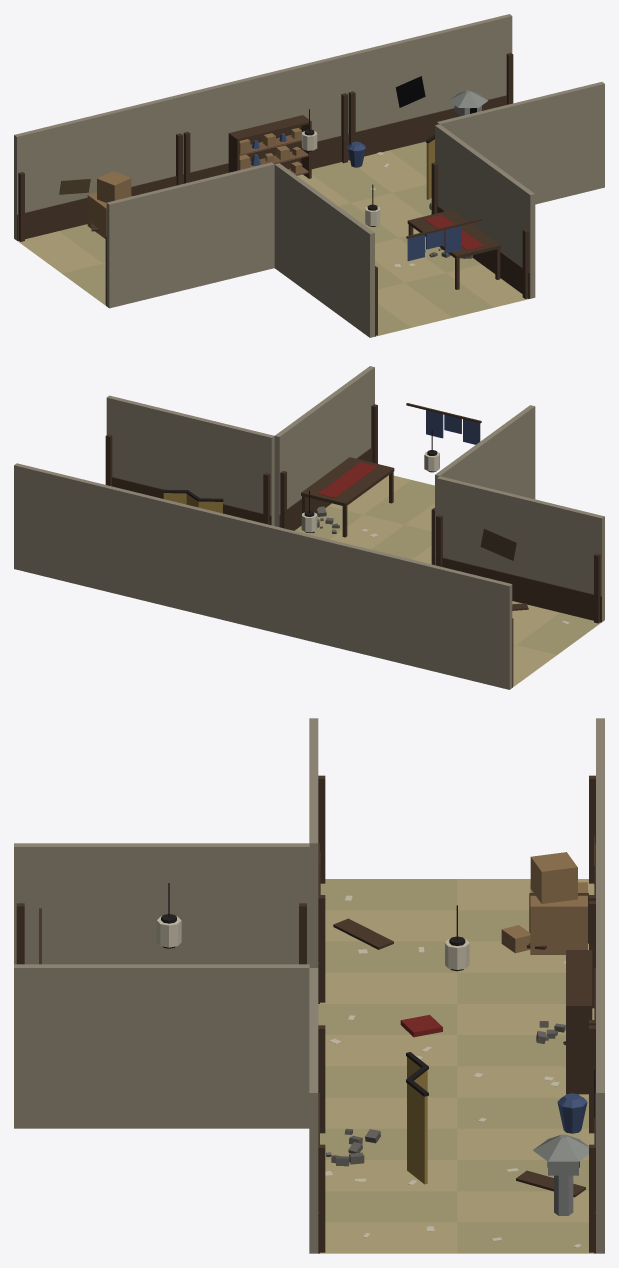
3 views of the same model, one above another, from view 1: azimuth 30°, elevation 25°; view 2: azimuth 150°, elevation 25°; view 3: azimuth 270°, elevation 25° (orthographic). The views are drawn at different scales.
Visible parts, largest first — view 1: f_A, f_A_Deco; view 2: f_A, f_A_Deco; view 3: f_A, f_A_Deco.
Part boxes in pixels (x1,y1,x2,y2): f_A: (14,14,604,337); f_A_Deco: (17,53,530,336); f_A: (14,366,604,689); f_A_Deco: (105,403,601,687); f_A: (14,718,604,1253); f_A_Deco: (16,775,595,1253).
Size of the model in its own units: 1.33 by 2 by 0.404.
